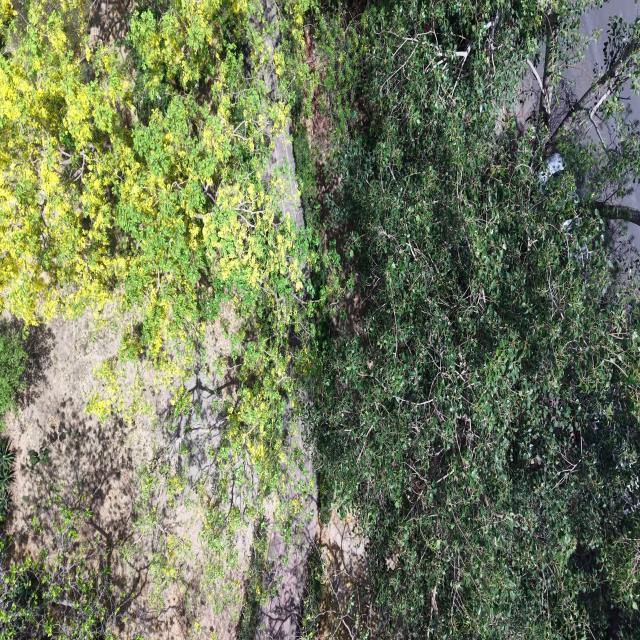DRY_AREA: (7, 315, 252, 639), (6, 318, 251, 639), (255, 421, 317, 639), (318, 510, 380, 638)
VEGETATION_TREE: (0, 0, 639, 638), (311, 2, 639, 638), (0, 0, 324, 565), (0, 2, 319, 483), (0, 500, 130, 639), (0, 322, 27, 431), (0, 323, 27, 426), (0, 438, 15, 523)
